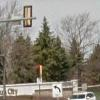Tree: (39, 13, 76, 80)
